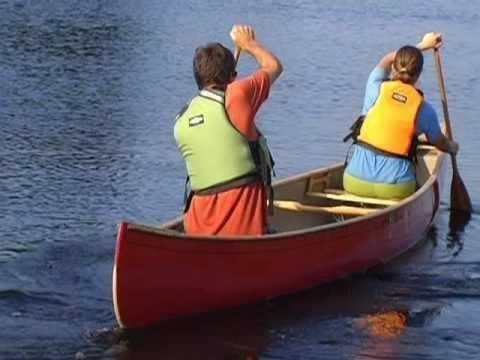kayak: (111, 147, 448, 331)
